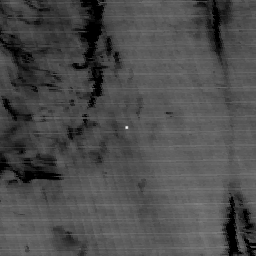Target: (123, 124, 130, 131)
